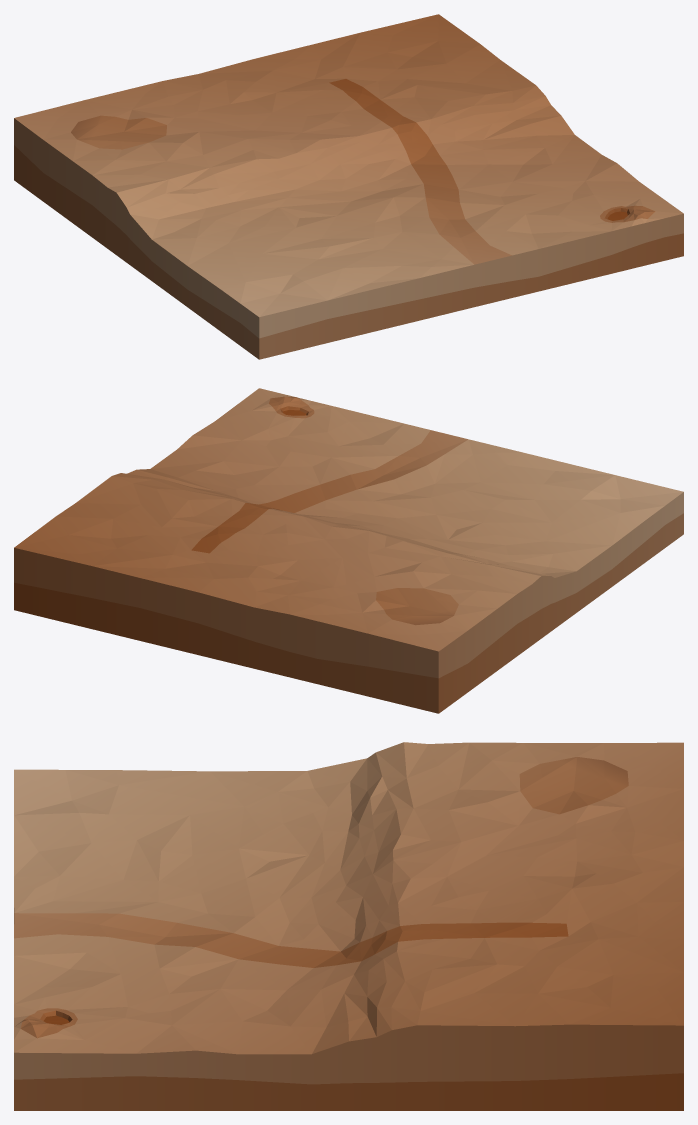
The model's file is land cemetery haunted house.fbx.
3 views of the same model, one above another, from view 1: azimuth 30°, elevation 25°; view 2: azimuth 150°, elevation 25°; view 3: azimuth 270°, elevation 25° (orthographic). The views are drawn at different scales.
Visible parts, largest first — view 1: land cemetery haunted house; view 2: land cemetery haunted house; view 3: land cemetery haunted house.
Part boxes in pixels (left/top/right/bottom): land cemetery haunted house: left=14, top=14, right=683, bottom=359; land cemetery haunted house: left=14, top=388, right=683, bottom=713; land cemetery haunted house: left=14, top=742, right=683, bottom=1110.
Size of the model in its own units: 4500 by 670 by 4500.
